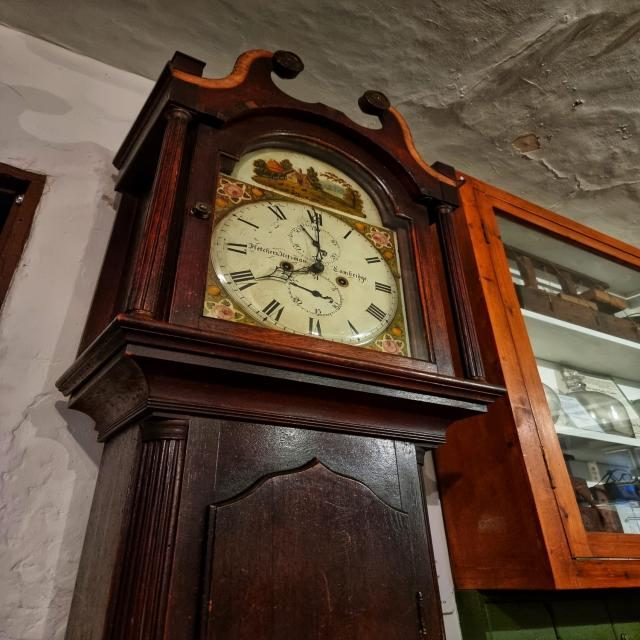clock: (49, 49, 495, 420)
